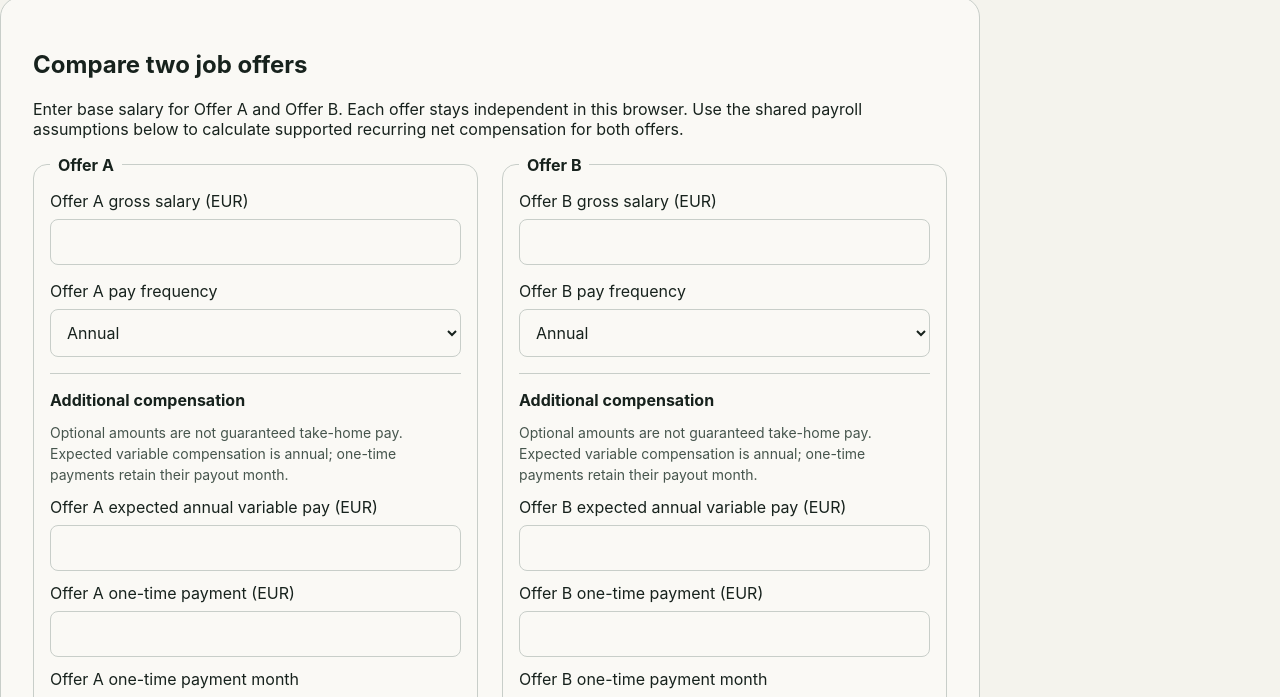
it: NP-CMP-002 offer salary inputs › validates exact entered base gross without inventing net differences
Type "50000.00" into the field labelled "Offer A gross salary (EUR)". click: point(256, 242)
box: [50,219,461,265]
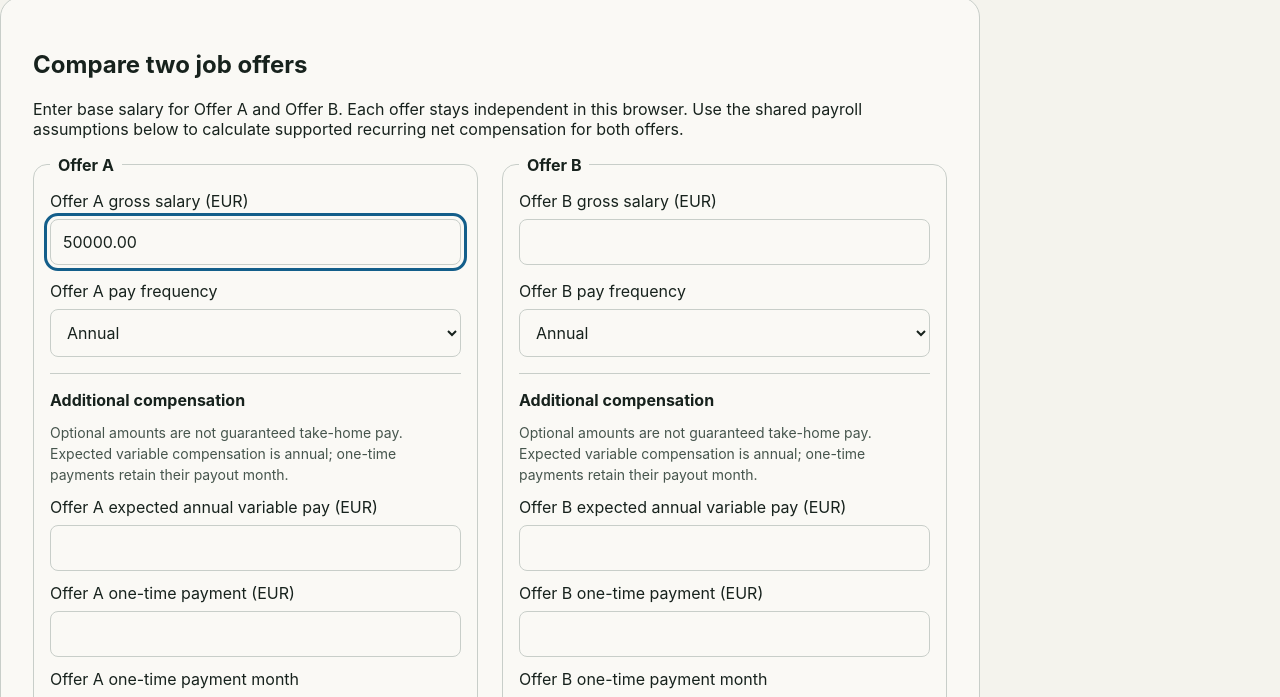
Type "60000.25" into the field labelled "Offer B gross salary (EUR)". click: point(724, 242)
box: [519,219,930,265]
(page scrolled)
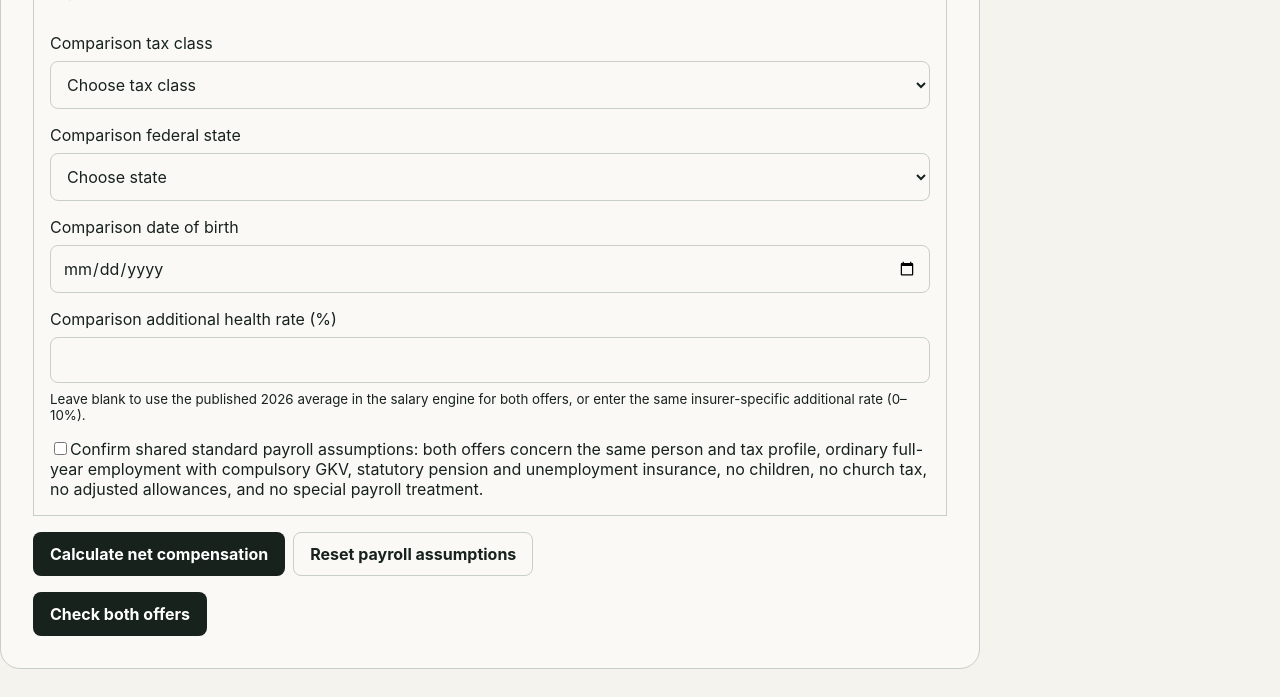
Click the button "Check both offers". click: point(120, 614)
box: [33,592,207,636]
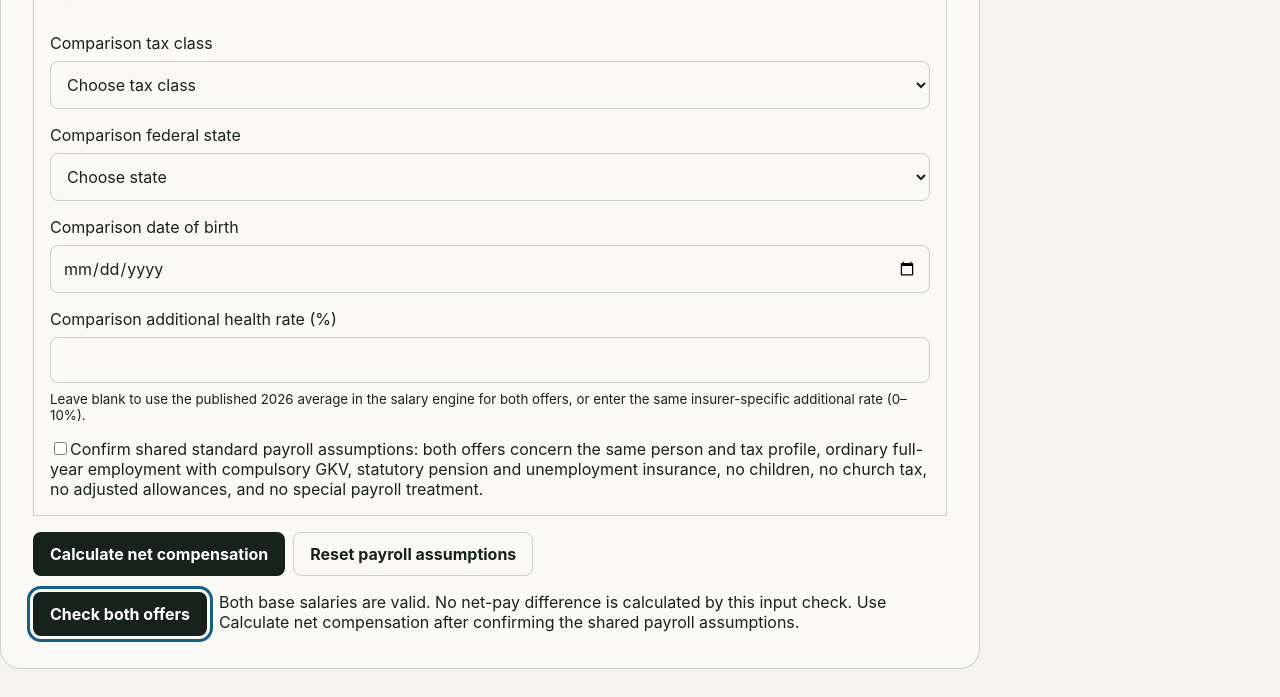
Expected: the message shows "No net-pay difference", [219,592,886,632]
